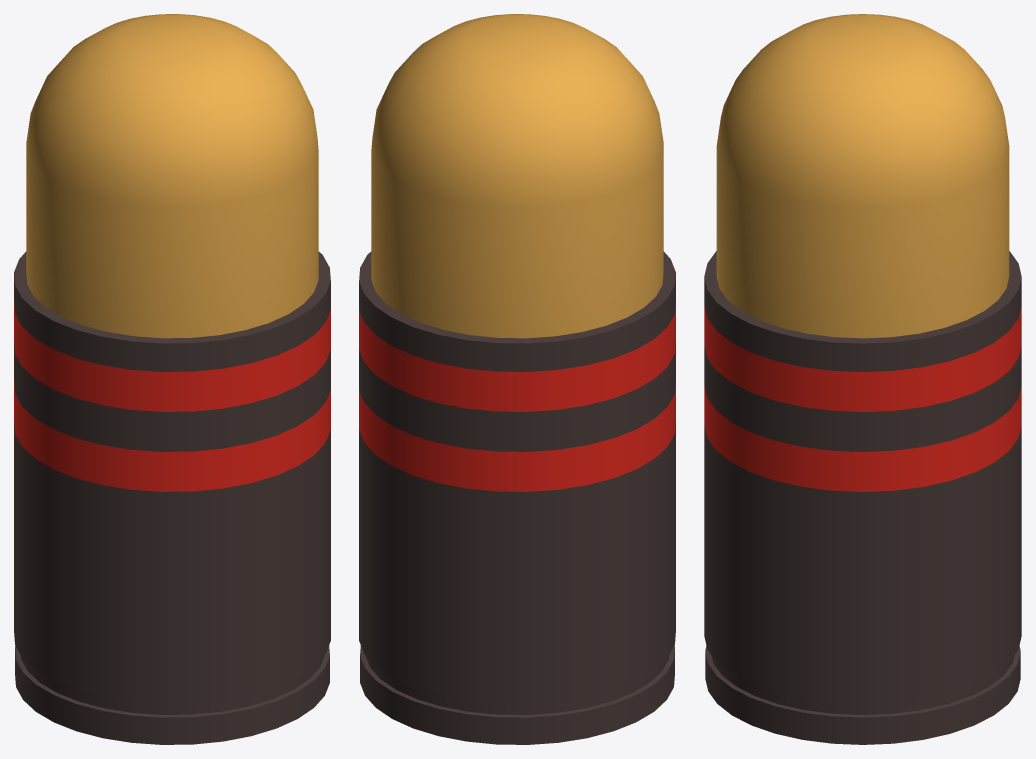
3 renders of one model, left to right at view 1: azimuth 30°, elevation 25°; view 2: azimuth 150°, elevation 25°; view 3: azimuth 270°, elevation 25°, orthographic.
Visible parts, largest first — view 1: Cylinder; view 2: Cylinder; view 3: Cylinder.
Boxes of the visible parts, x1,y1,x2,y2 form: Cylinder: (14, 14, 330, 744); Cylinder: (359, 14, 675, 744); Cylinder: (704, 14, 1021, 744).
Bounding box in the file's own units: 200 × 447 × 200.
